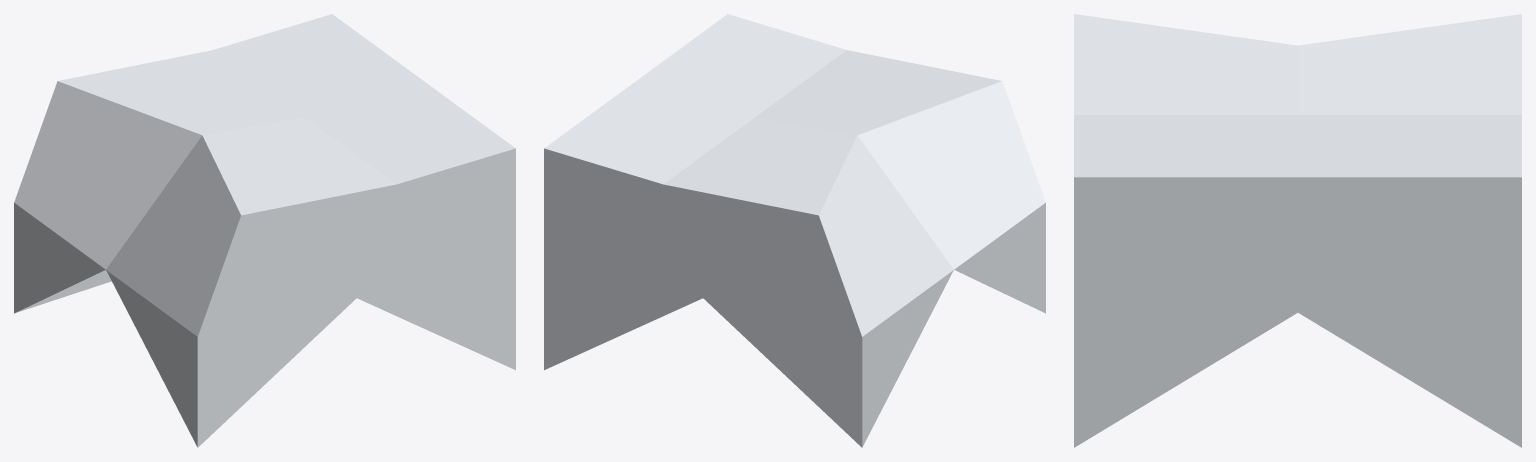
Rendered from fgr_fur_chair.fbx.
The picture shows the model from 3 angles, left to right: view 1: azimuth 30°, elevation 25°; view 2: azimuth 150°, elevation 25°; view 3: azimuth 270°, elevation 25°; orthographic projection. The views are drawn at different scales.
Visible parts, largest first — view 1: fgr_fur_sillamesa; view 2: fgr_fur_sillamesa; view 3: fgr_fur_sillamesa.
Part boxes in pixels (x1,y1,x2,y2): fgr_fur_sillamesa: (14,14,515,447); fgr_fur_sillamesa: (544,14,1045,447); fgr_fur_sillamesa: (1074,14,1521,447).
Bounding box in the file's own units: 600 × 400 × 600.
1 material, 1 textured.
